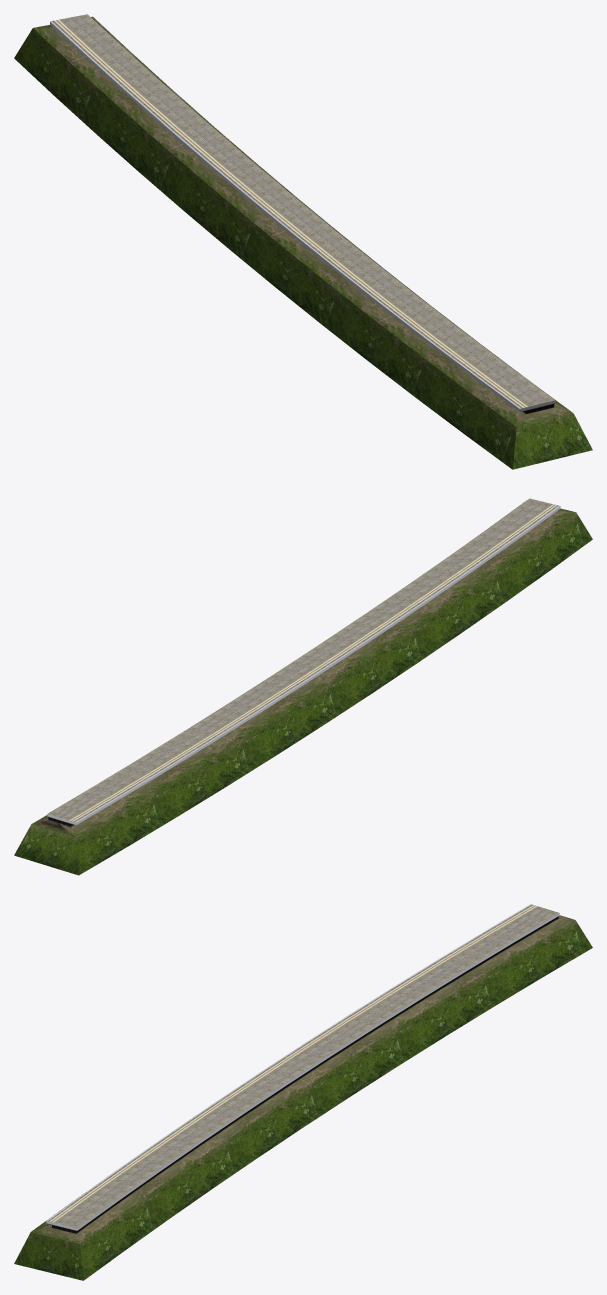
The model's file is platform_rus_-1r.gltf.
The picture shows the model from 3 angles, top to bottom: view 1: azimuth 30°, elevation 25°; view 2: azimuth 150°, elevation 25°; view 3: azimuth 330°, elevation 25°; orthographic projection. The views are drawn at different scales.
Bounding box in the file's own units: 14.31 × 4.75 × 106.
1 material, 1 textured.
